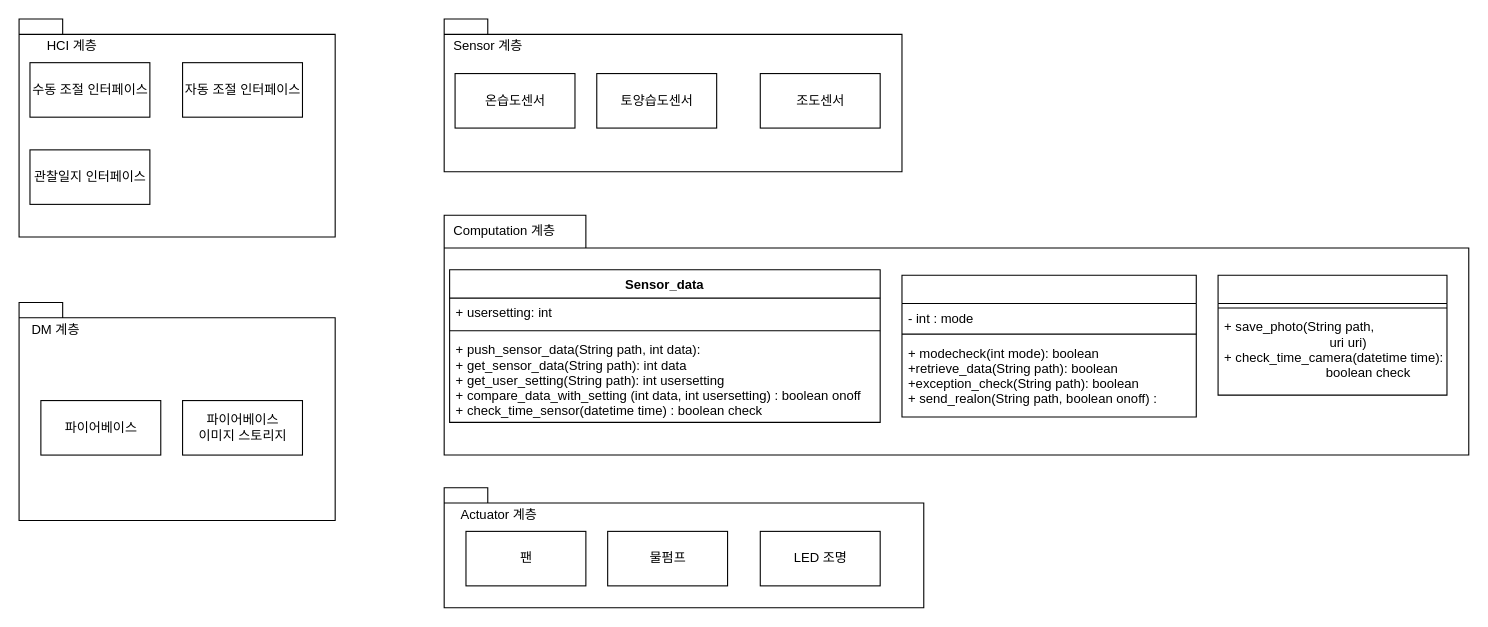
The diagram is 1488 pixels wide and 627 high, and some of its shapes have lost their labels. Here are the shapes that lost their labels. From the top down, the box of each, then its label:
(901, 274, 1196, 417): Device_ctrl
(1217, 274, 1447, 395): 카메라 사진 업로드
